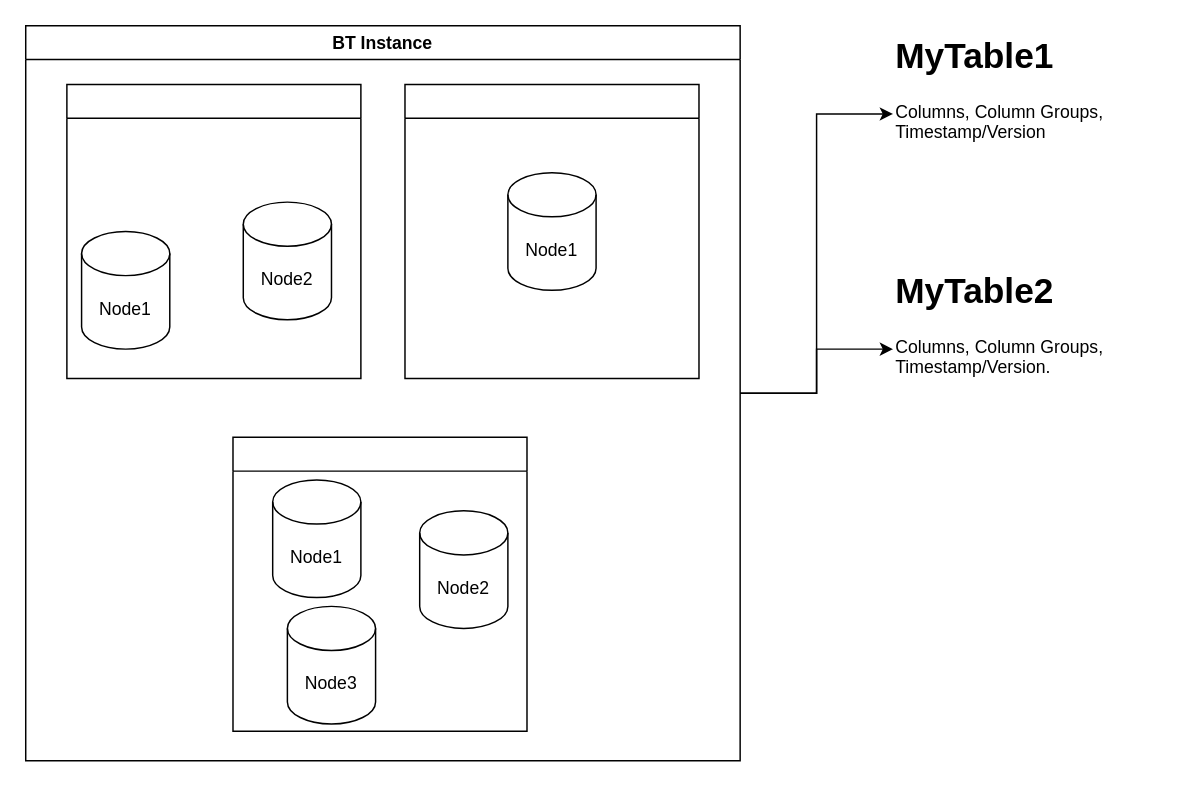
Some shapes in this 1183 by 786 pixel diagram are drawn without their labels. Each missing label, with the box of its shape:
Cluster (europe_west1_a): (232, 436, 527, 731)
Cluster (us_east1_a): (65, 83, 361, 379)
Cluster (us_east1_b): (404, 83, 699, 379)
